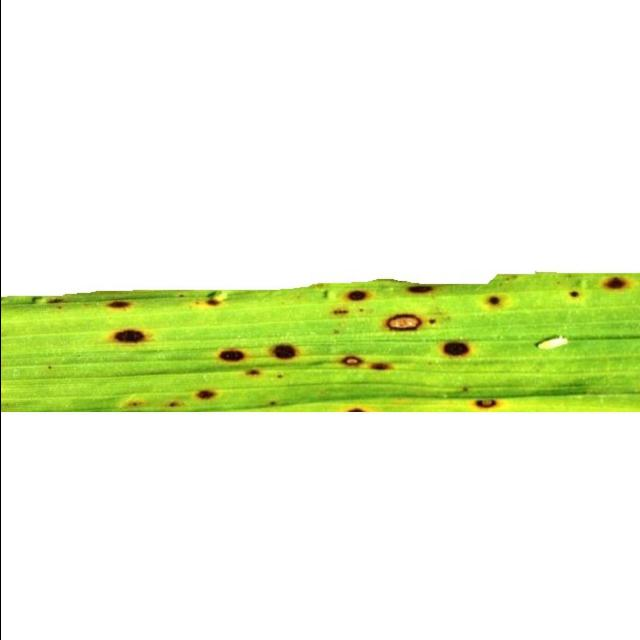healthy: (0, 247, 640, 434)
